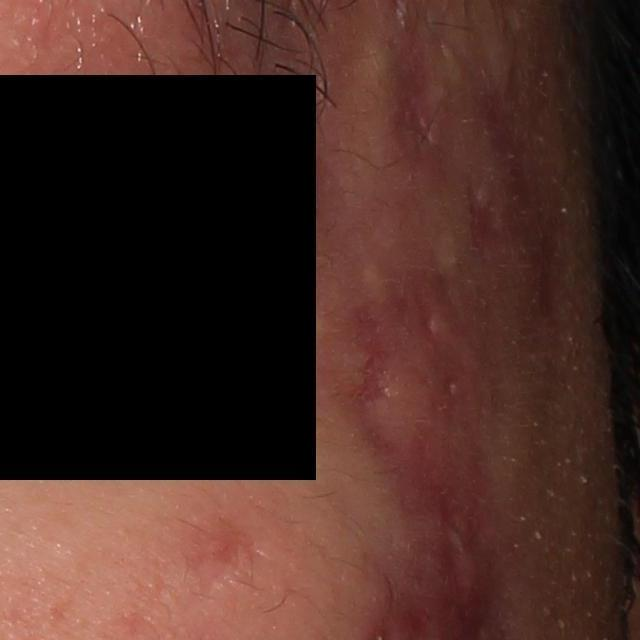atrophic_scar: (325, 298, 403, 462), (181, 520, 262, 604), (465, 185, 501, 256)
hypertrophic_scar: (380, 363, 460, 468), (284, 302, 365, 374), (359, 34, 398, 106)
